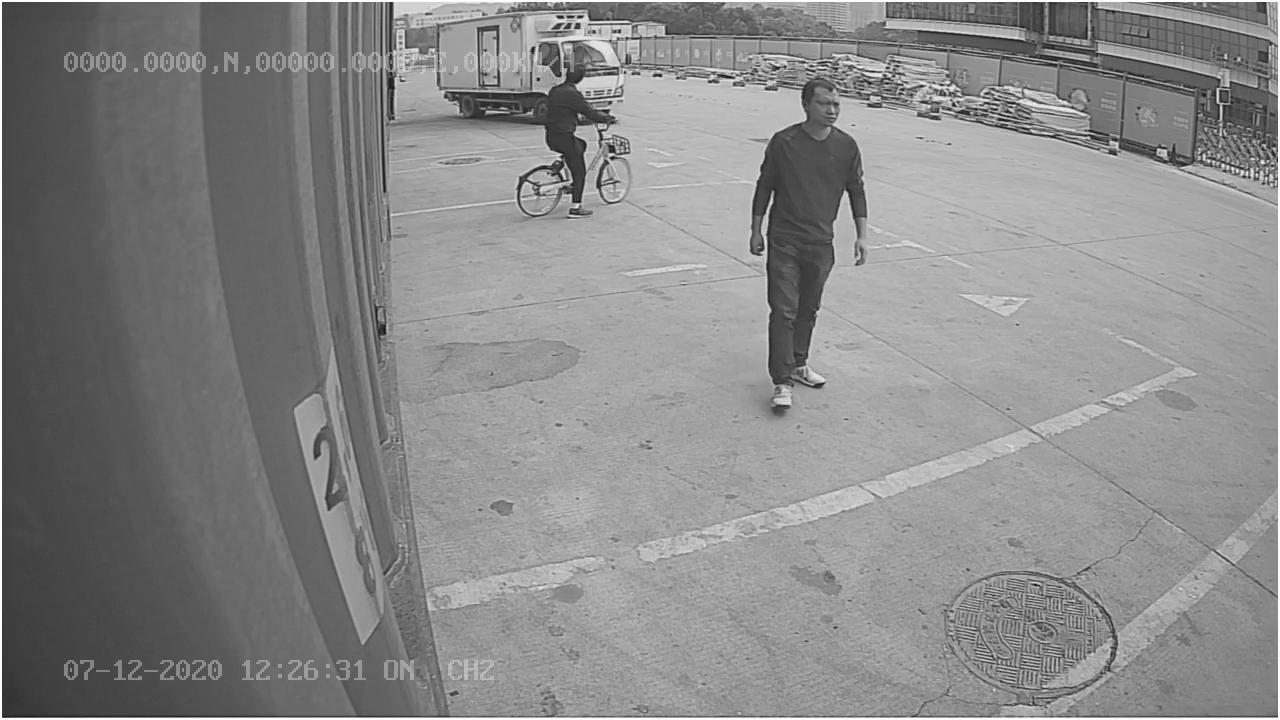person: (744, 75, 877, 423)
